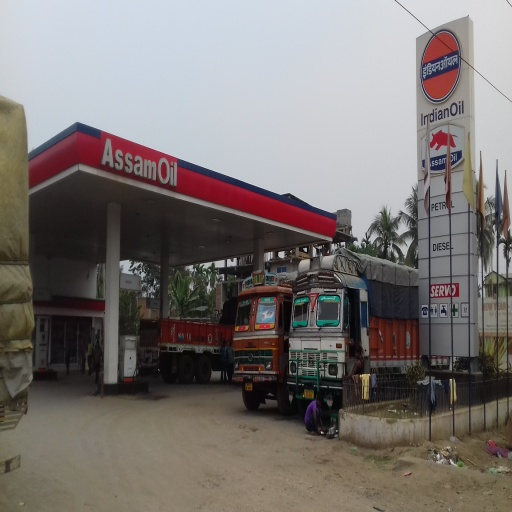roof: (28, 119, 336, 271)
